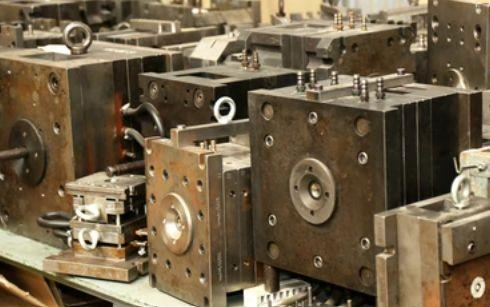metal: (252, 80, 456, 298), (145, 123, 258, 307), (55, 169, 147, 283), (1, 123, 44, 179), (62, 20, 93, 55), (212, 95, 236, 125), (77, 227, 100, 251), (296, 70, 309, 92), (374, 77, 386, 99)
